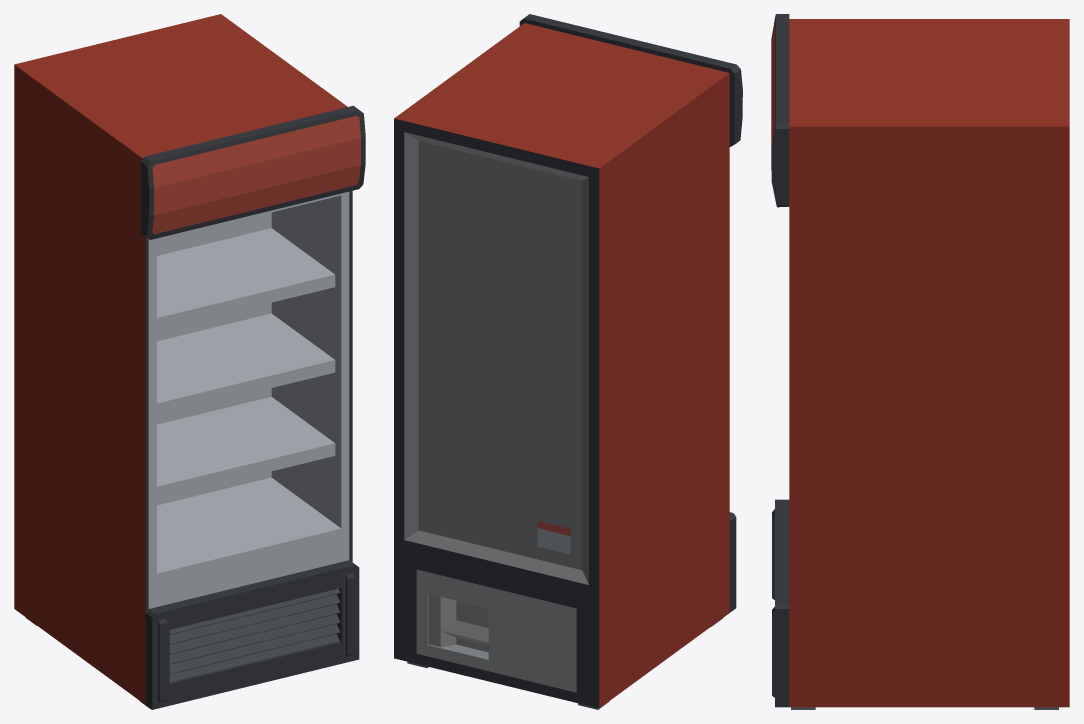
Rendered from SM_Prop_Market_Drinks_Fridge_02.obj.
3 renders of one model, left to right at view 1: azimuth 30°, elevation 25°; view 2: azimuth 150°, elevation 25°; view 3: azimuth 270°, elevation 25°, orthographic. The views are drawn at different scales.
Visible parts, largest first — view 1: SM_Prop_Market_Drinks_Fridge_02_0; view 2: SM_Prop_Market_Drinks_Fridge_02_0; view 3: SM_Prop_Market_Drinks_Fridge_02_0.
Part boxes in pixels (x1,y1,x2,y2): SM_Prop_Market_Drinks_Fridge_02_0: (14, 14, 365, 709); SM_Prop_Market_Drinks_Fridge_02_0: (394, 14, 742, 709); SM_Prop_Market_Drinks_Fridge_02_0: (771, 14, 1069, 709).
Size of the model in its own units: 0.9378 by 2.3 by 1.05.
1 material, 1 textured.
